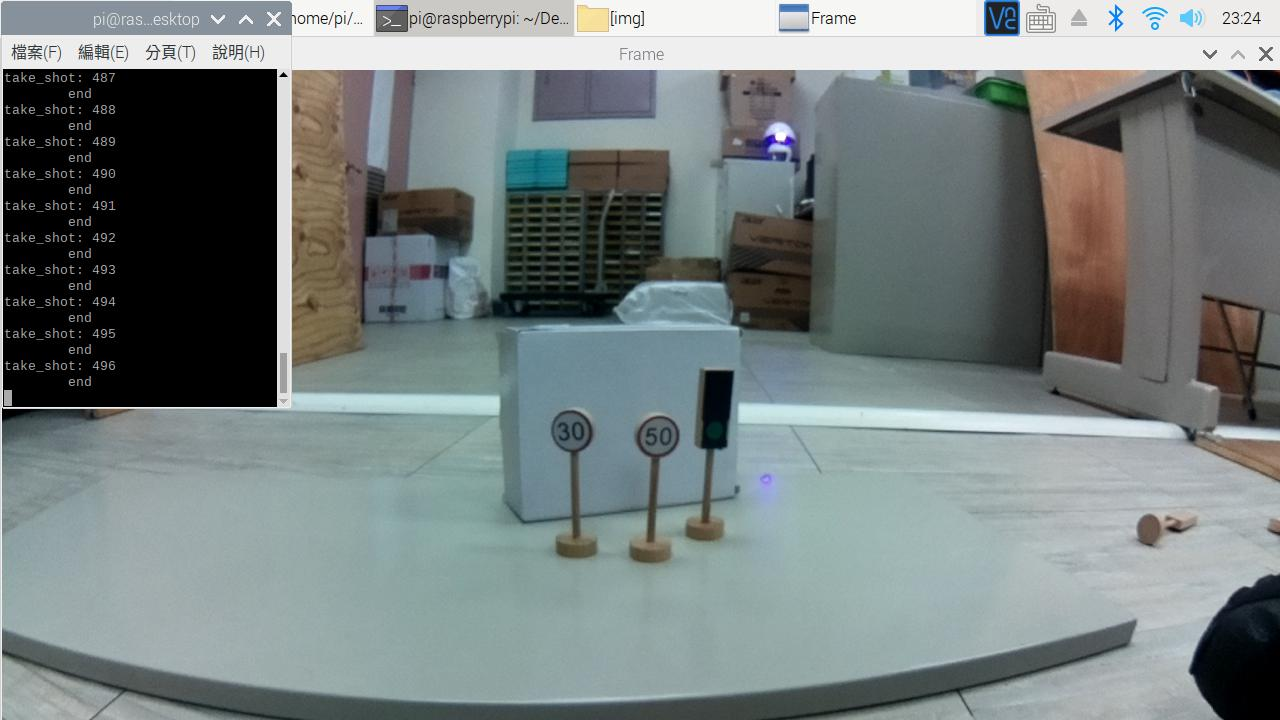Green: (691, 361, 734, 453)
Speed30: (550, 404, 604, 456)
Speed50: (635, 408, 683, 468)
